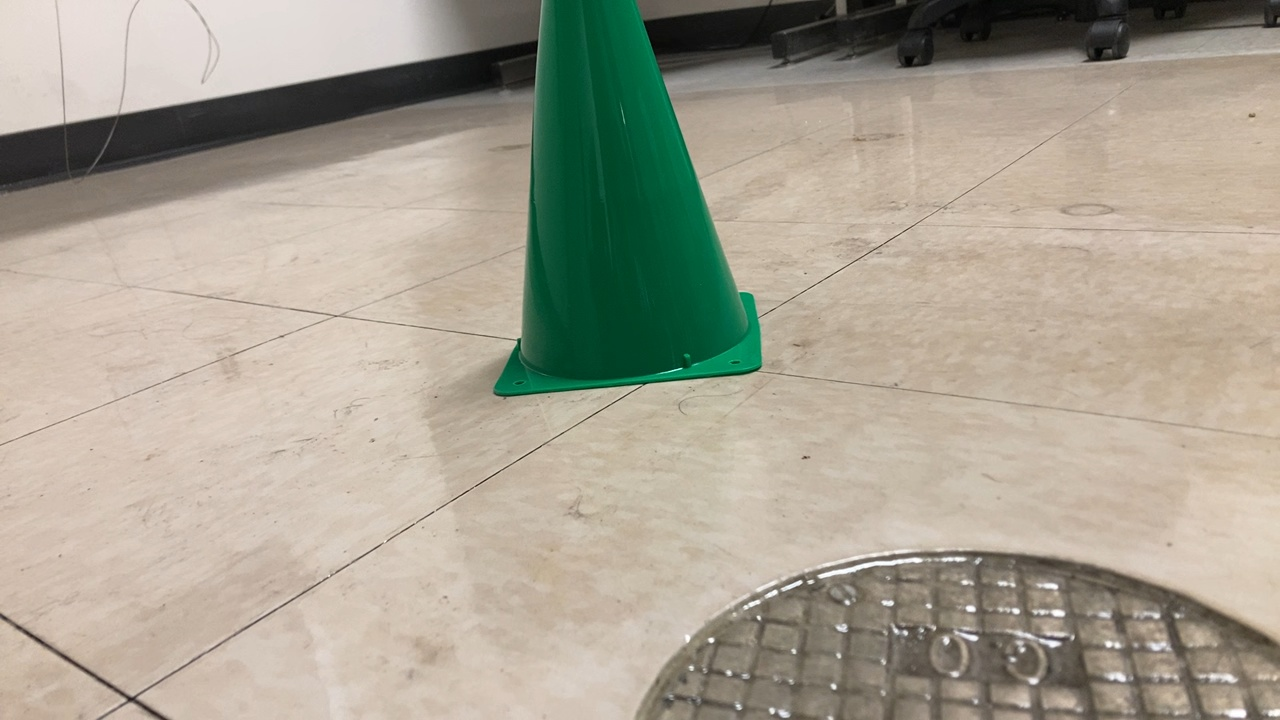green_cone: (484, 1, 766, 403)
